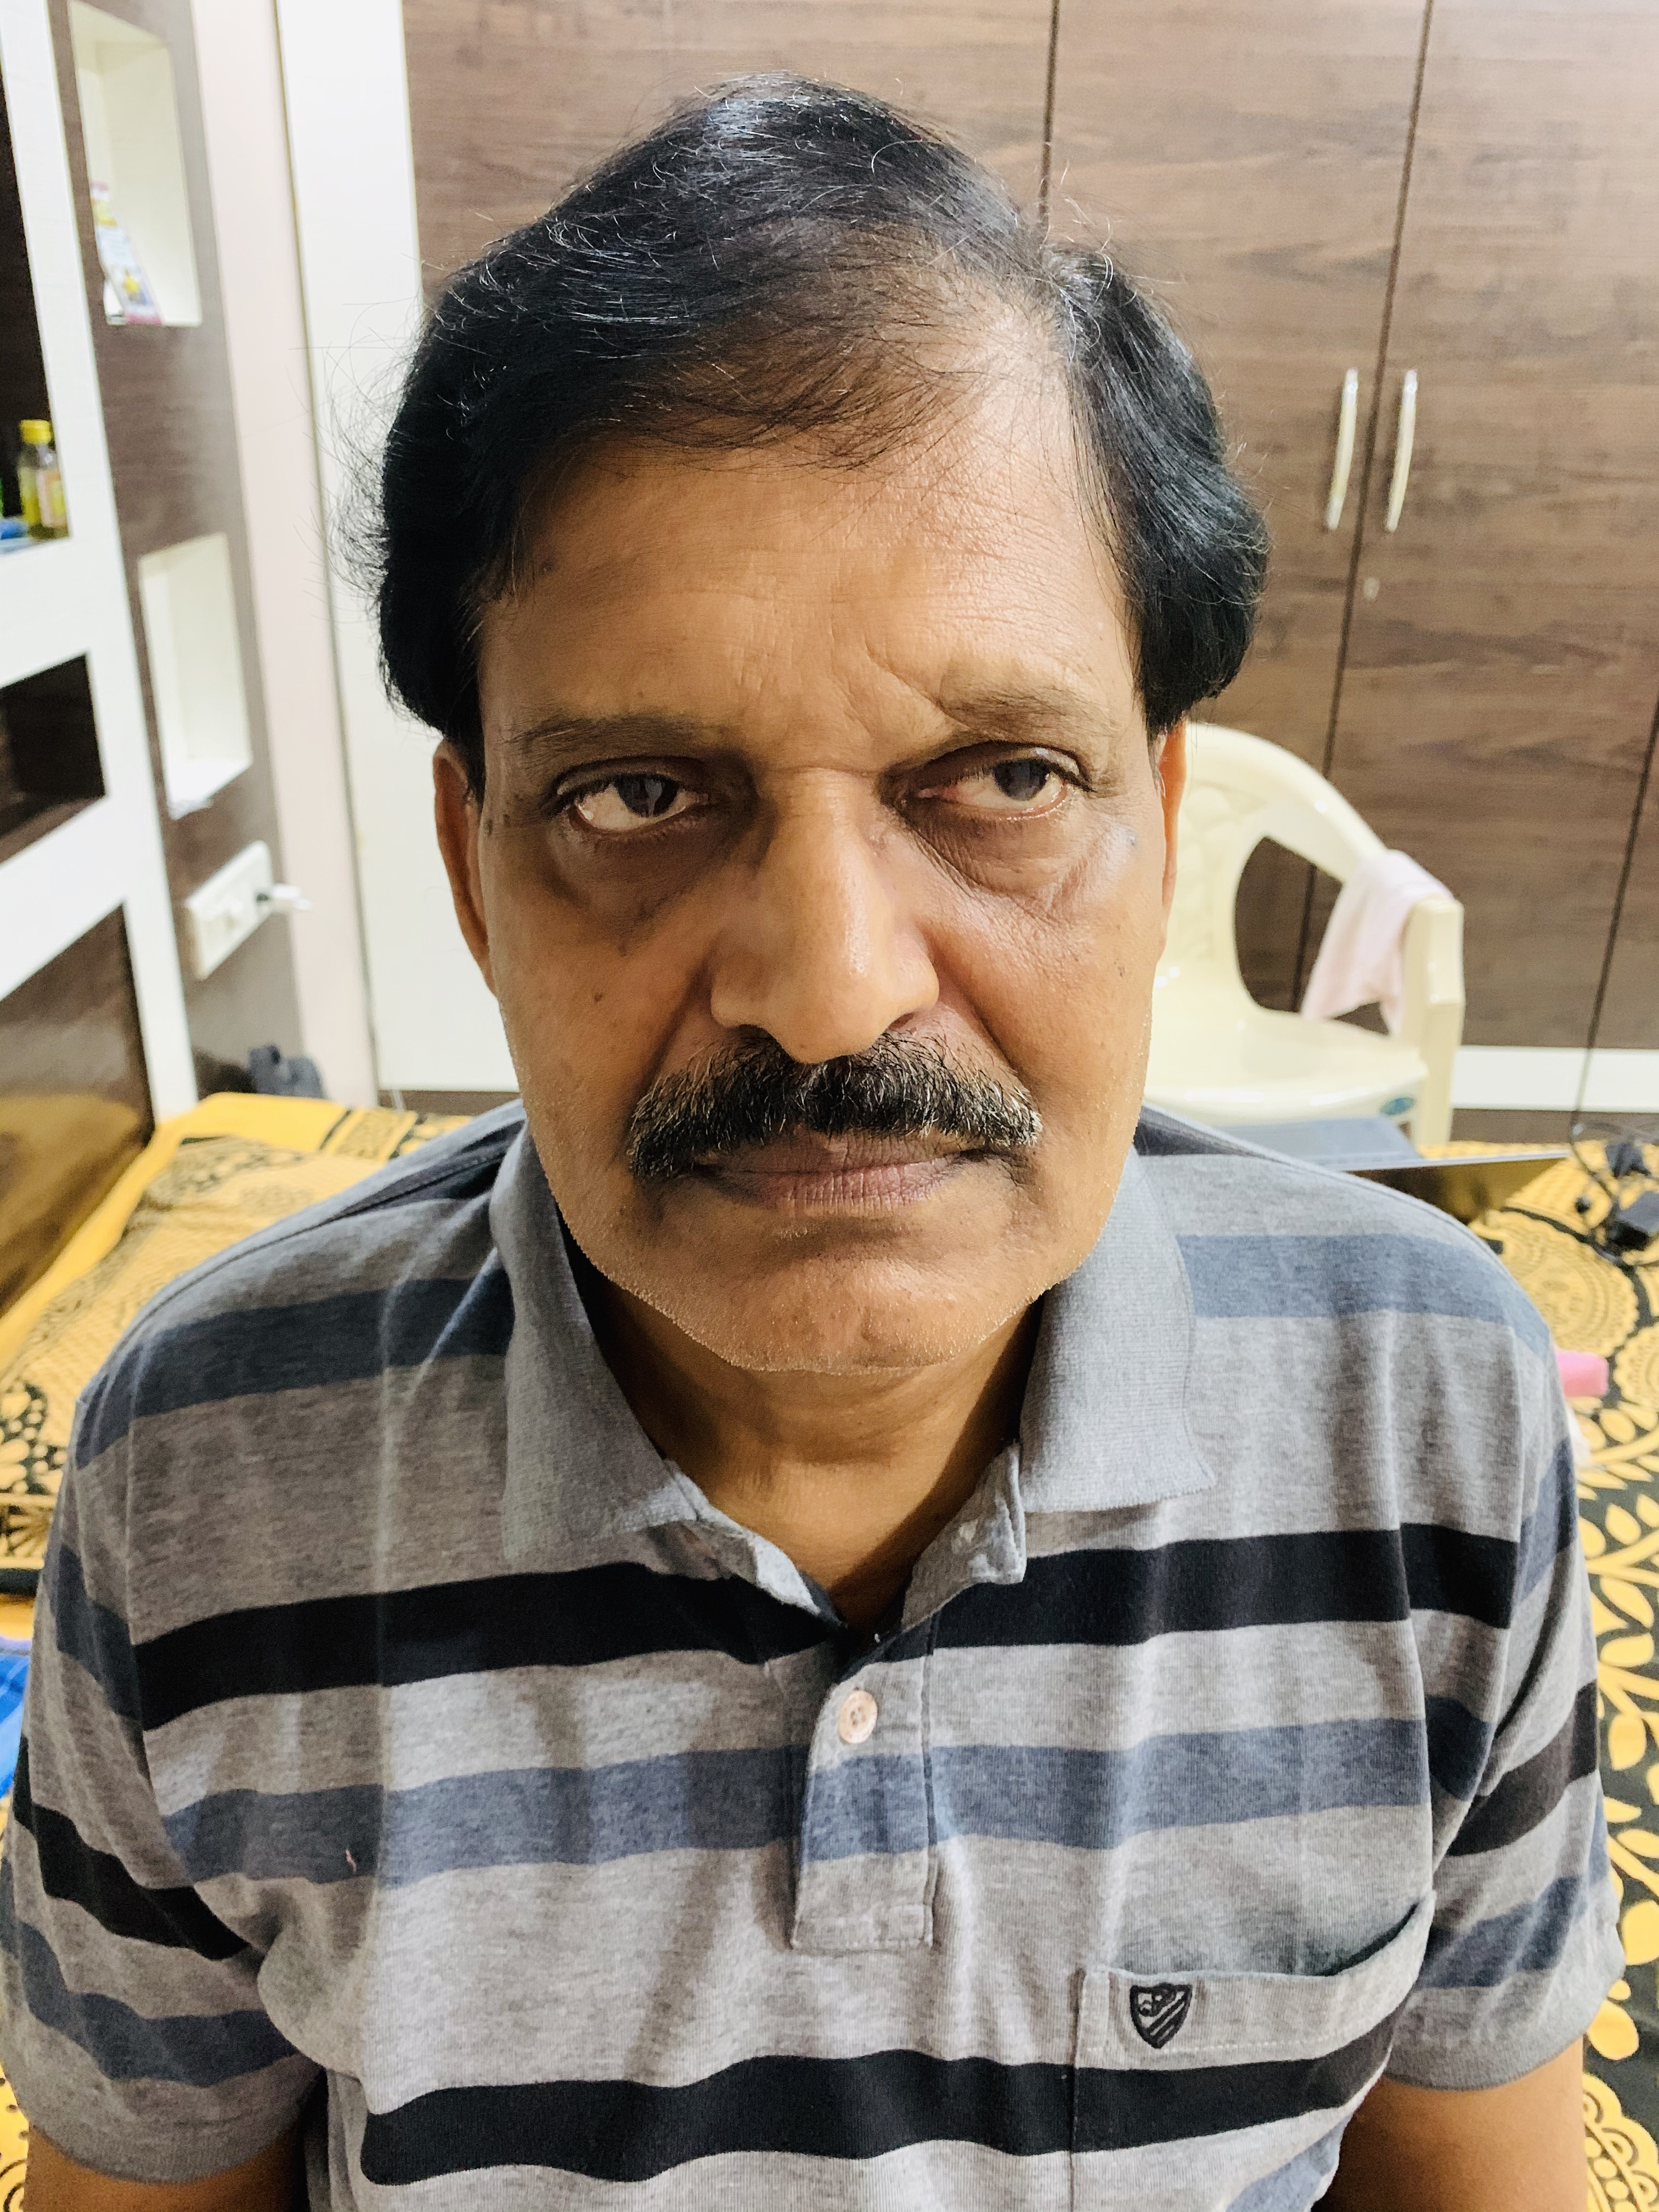Not Sleeping: (502, 709, 1117, 885)
